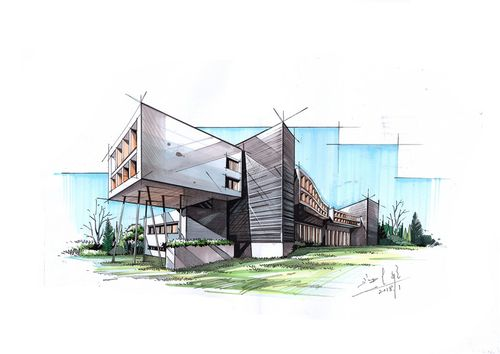buildings: (96, 85, 410, 256), (86, 97, 276, 246)
